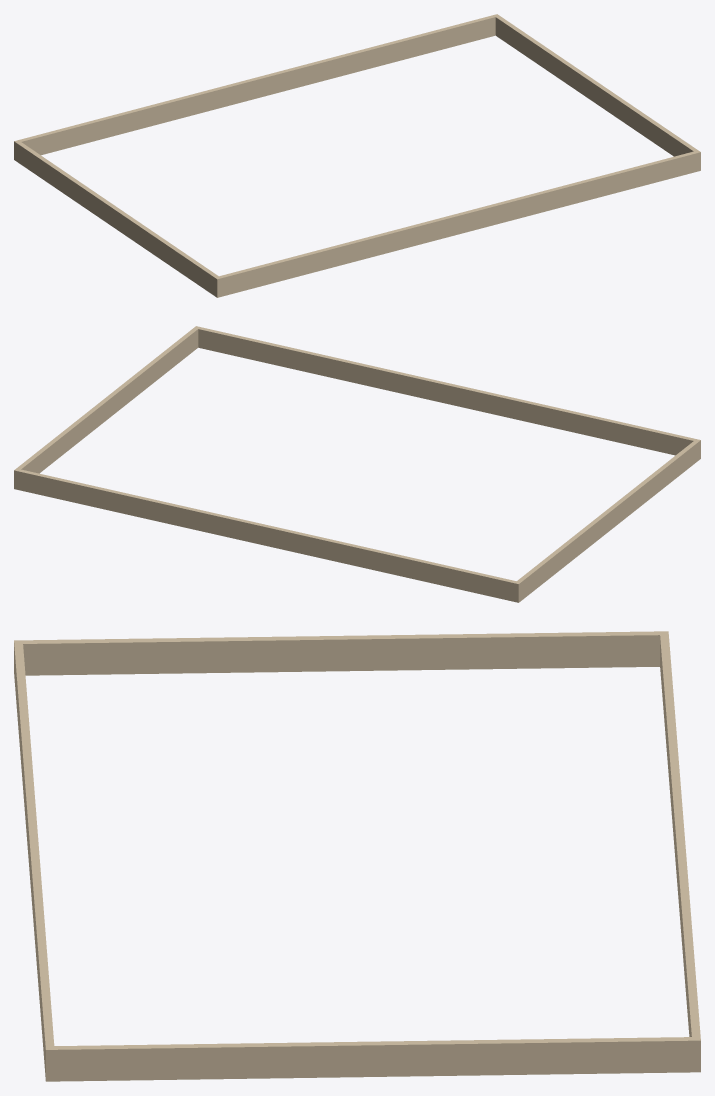
3 renders of one model, top to bottom at view 1: azimuth 30°, elevation 25°; view 2: azimuth 150°, elevation 25°; view 3: azimuth 270°, elevation 25°, orthographic. The views are drawn at different scales.
Visible parts, largest first — view 1: SM_2d606795232e1287e7a5; view 2: SM_2d606795232e1287e7a5; view 3: SM_2d606795232e1287e7a5.
Part boxes in pixels (x1,y1,x2,y2): SM_2d606795232e1287e7a5: [14, 14, 700, 297]; SM_2d606795232e1287e7a5: [14, 326, 700, 602]; SM_2d606795232e1287e7a5: [14, 631, 700, 1081].
Size of the model in its own units: 20.25 by 14.04 by 0.715.
